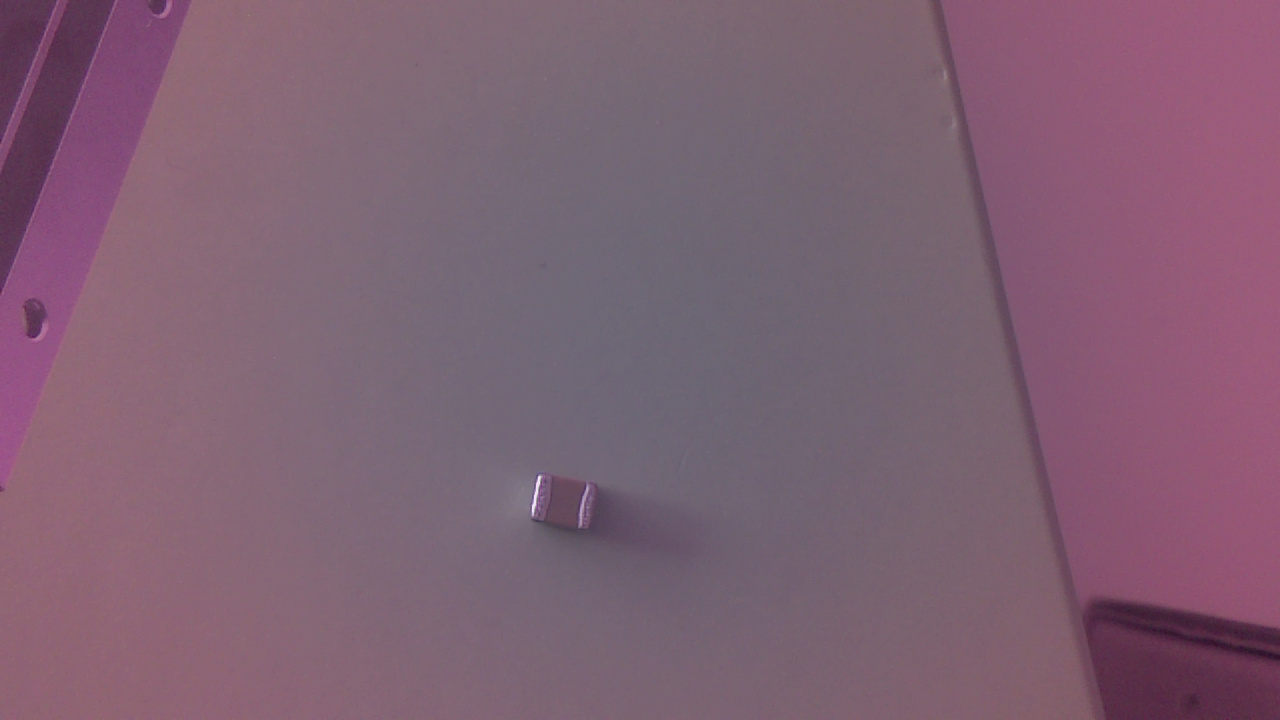Condensator: (530, 473, 612, 542)
